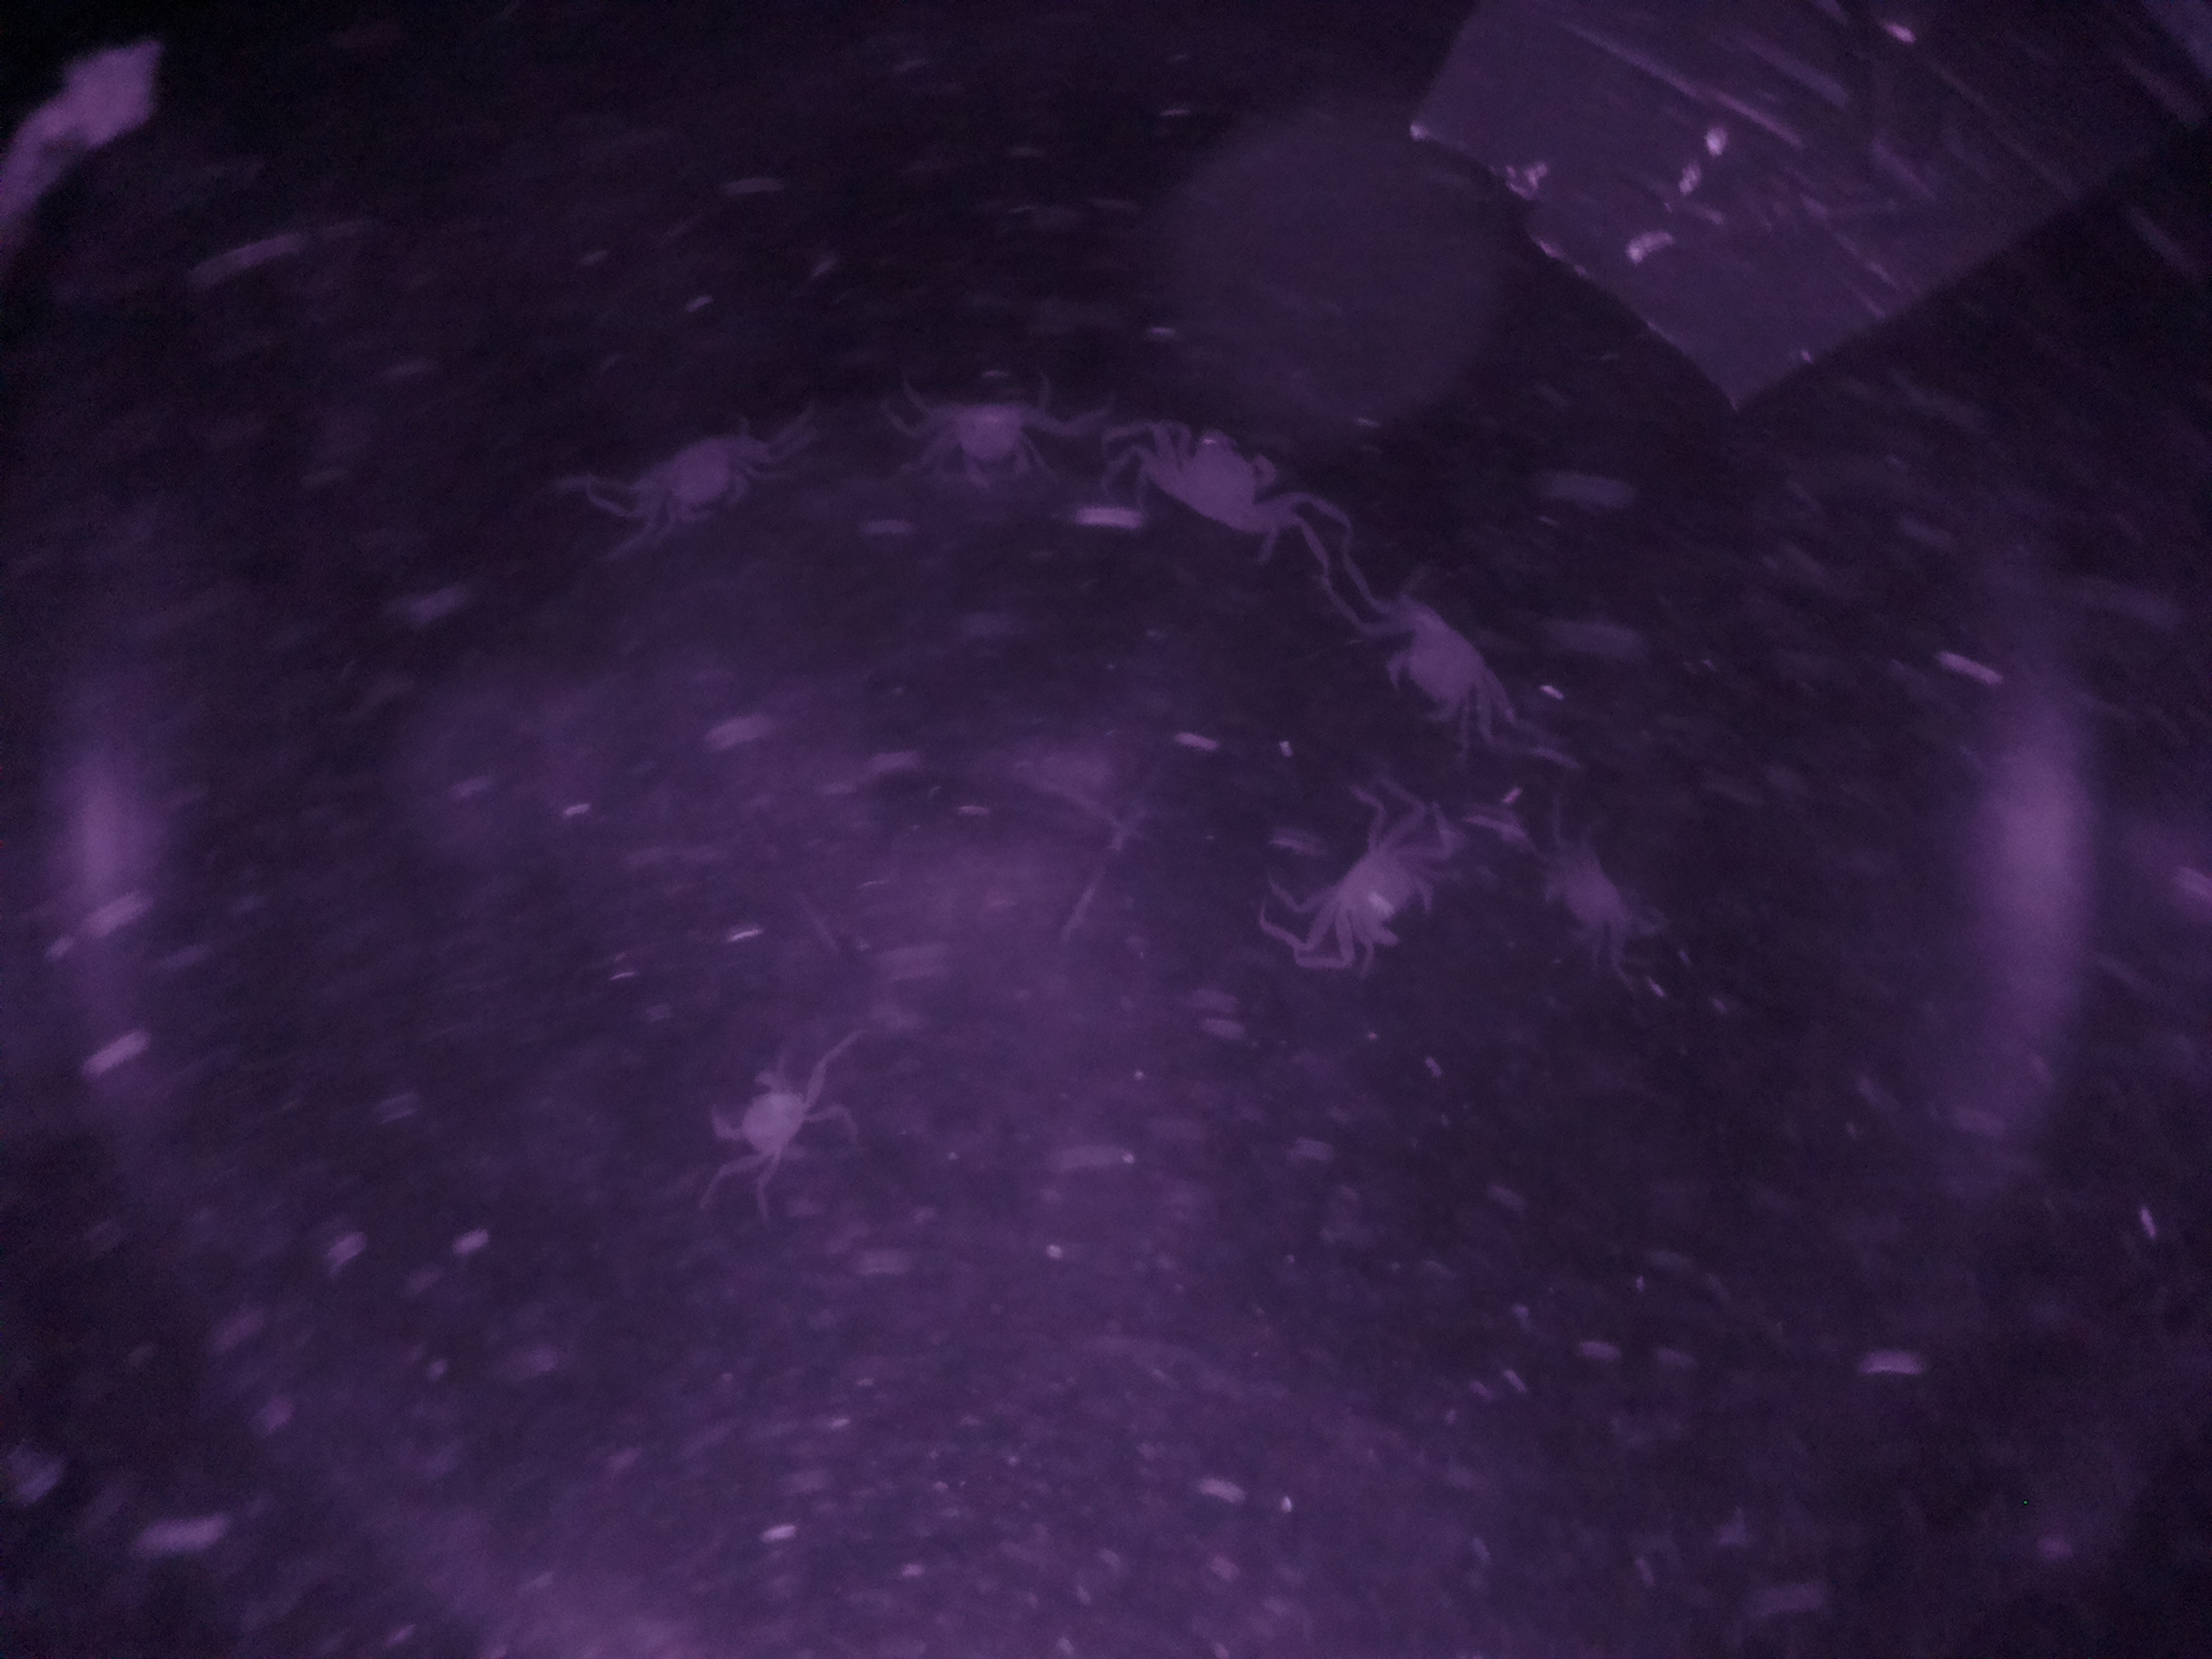Crab: (1137, 415, 1329, 554), (1366, 610, 1522, 737), (1310, 828, 1446, 960)
